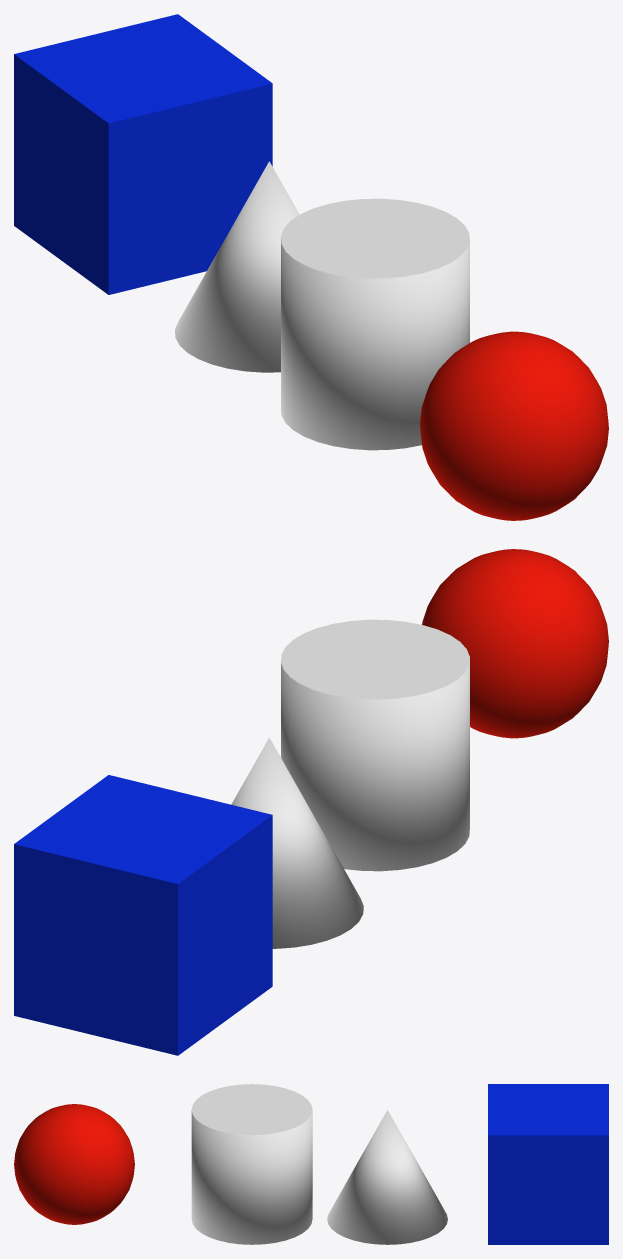
3 renders of one model, top to bottom at view 1: azimuth 30°, elevation 25°; view 2: azimuth 150°, elevation 25°; view 3: azimuth 270°, elevation 25°, orthographic. The views are drawn at different scales.
Visible parts, largest first — view 1: Cube, Cylinder, Sphere, Cone; view 2: Cube, Cylinder, Sphere, Cone; view 3: Cube, Cylinder, Sphere, Cone.
Part boxes in pixels (box(x1,y1,x2,y2)): Cube: box(14, 14, 272, 294); Cylinder: box(281, 198, 469, 450); Sphere: box(420, 331, 608, 520); Cone: box(175, 161, 299, 372); Cube: box(14, 775, 272, 1055); Cylinder: box(281, 619, 469, 871); Sphere: box(422, 549, 608, 738); Cone: box(231, 737, 363, 948); Cube: box(488, 1084, 608, 1244); Cylinder: box(191, 1084, 312, 1244); Sphere: box(14, 1104, 134, 1224); Cone: box(327, 1110, 447, 1244).
Size of the model in its own units: 2 by 2 by 9.84.
